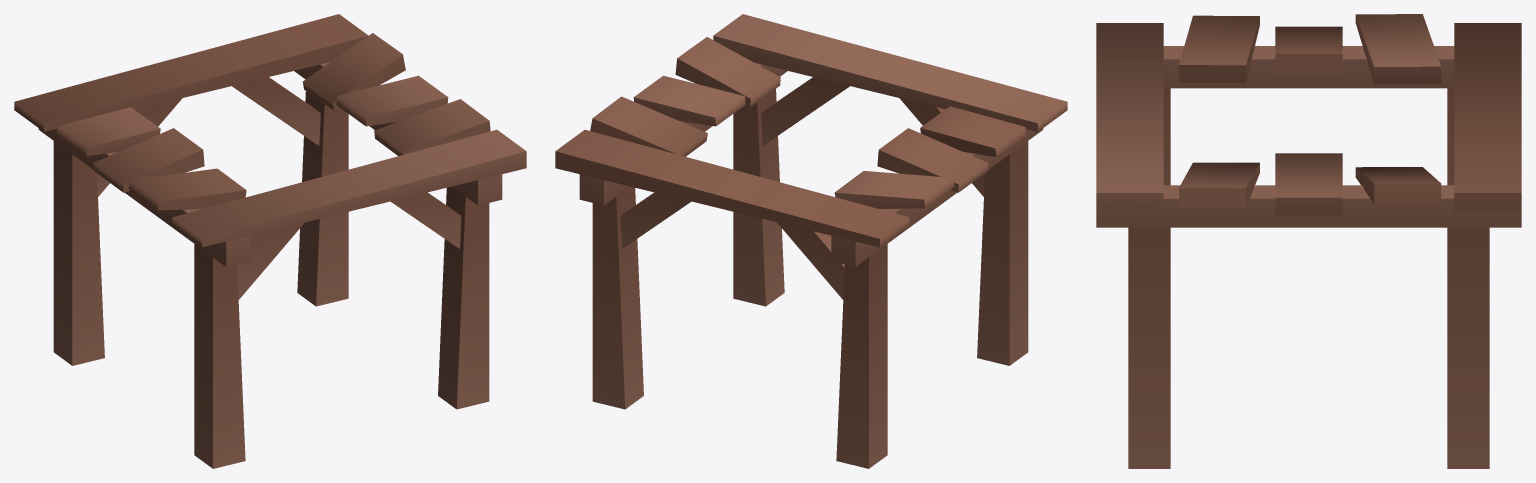
File: template-floor-layer-hole.glb
The picture shows the model from 3 angles, left to right: view 1: azimuth 30°, elevation 25°; view 2: azimuth 150°, elevation 25°; view 3: azimuth 270°, elevation 25°; orthographic projection. The views are drawn at different scales.
Visible parts, largest first — view 1: template-floor-layer-hole; view 2: template-floor-layer-hole; view 3: template-floor-layer-hole.
Boxes of the visible parts, bbox=[...] form: template-floor-layer-hole: bbox=[14, 14, 526, 468]; template-floor-layer-hole: bbox=[555, 14, 1067, 468]; template-floor-layer-hole: bbox=[1096, 14, 1521, 468].
Bounding box in the file's own units: 4.04 × 3.09 × 4.
1 material, 1 textured.
